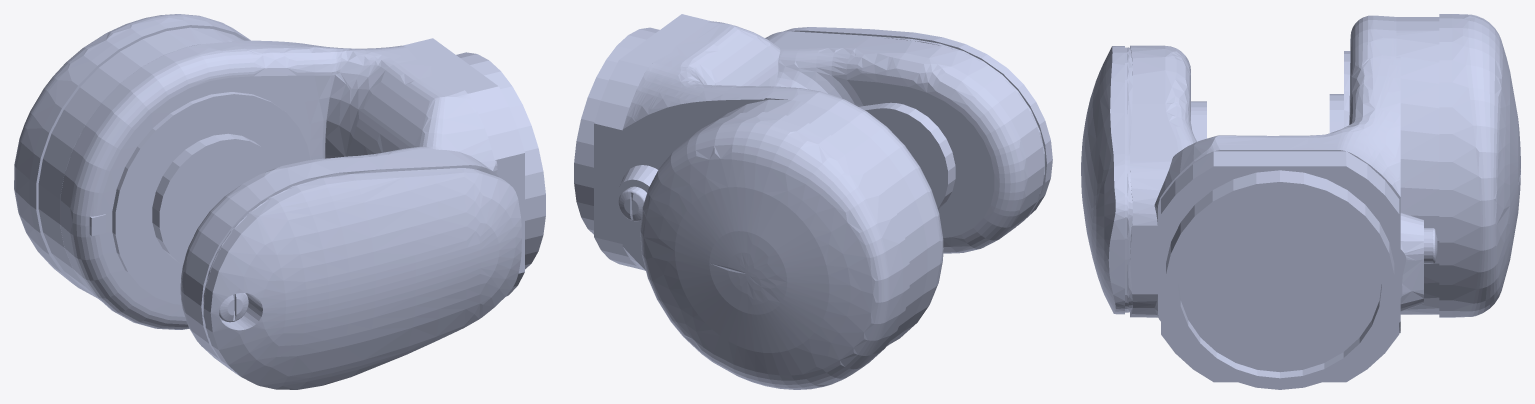
3 views of the same model, side by side, from view 1: azimuth 30°, elevation 25°; view 2: azimuth 150°, elevation 25°; view 3: azimuth 270°, elevation 25° (orthographic). The views are drawn at different scales.
Parts seen in each view (by area): view 1: node0; view 2: node0; view 3: node0.
Part boxes in pixels (box(x1,y1,x2,y2)): node0: box(14, 14, 545, 389); node0: box(574, 14, 1052, 389); node0: box(1081, 14, 1520, 389).
Size of the model in its own units: 0.3035 by 0.3065 by 0.212.
